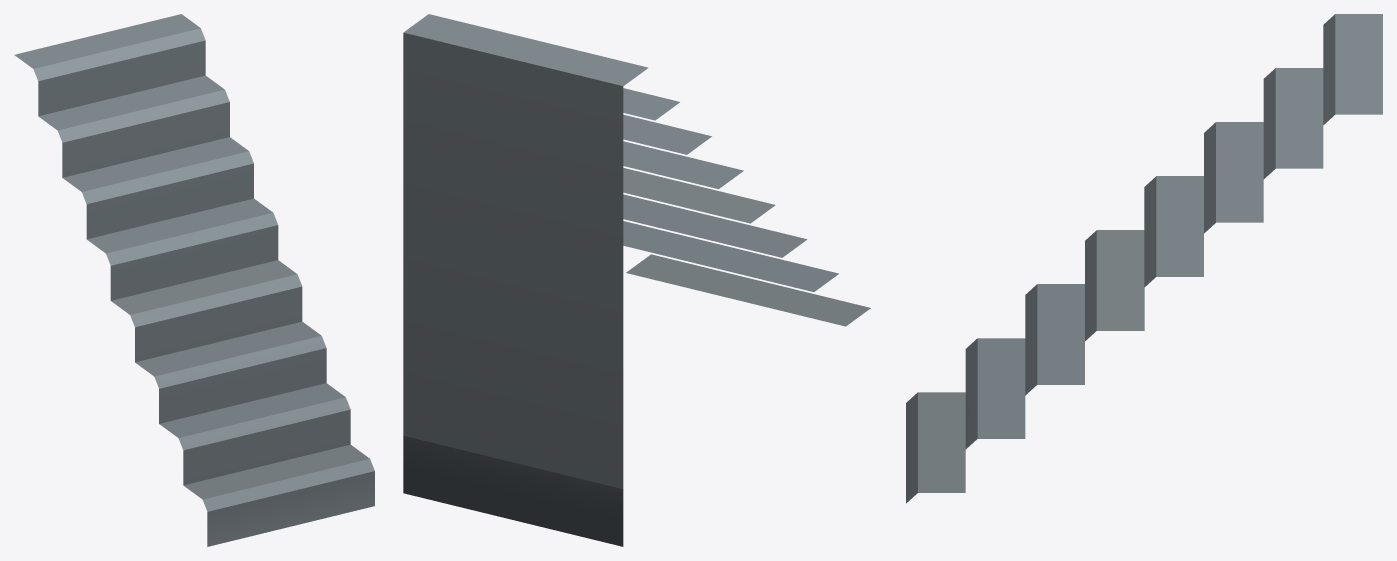
The model's file is stairs_modular_center.gltf.
3 views of the same model, side by side, from view 1: azimuth 30°, elevation 25°; view 2: azimuth 150°, elevation 25°; view 3: azimuth 270°, elevation 25° (orthographic). The views are drawn at different scales.
Visible parts, largest first — view 1: stairs_modular_center; view 2: stairs_modular_center; view 3: stairs_modular_center.
Boxes of the visible parts, bbox=[...] form: stairs_modular_center: bbox=[14, 14, 374, 546]; stairs_modular_center: bbox=[403, 14, 870, 546]; stairs_modular_center: bbox=[906, 14, 1382, 503].
Bounding box in the file's own units: 2 × 4 × 4.
Materials: 1 (1 with a texture image).
